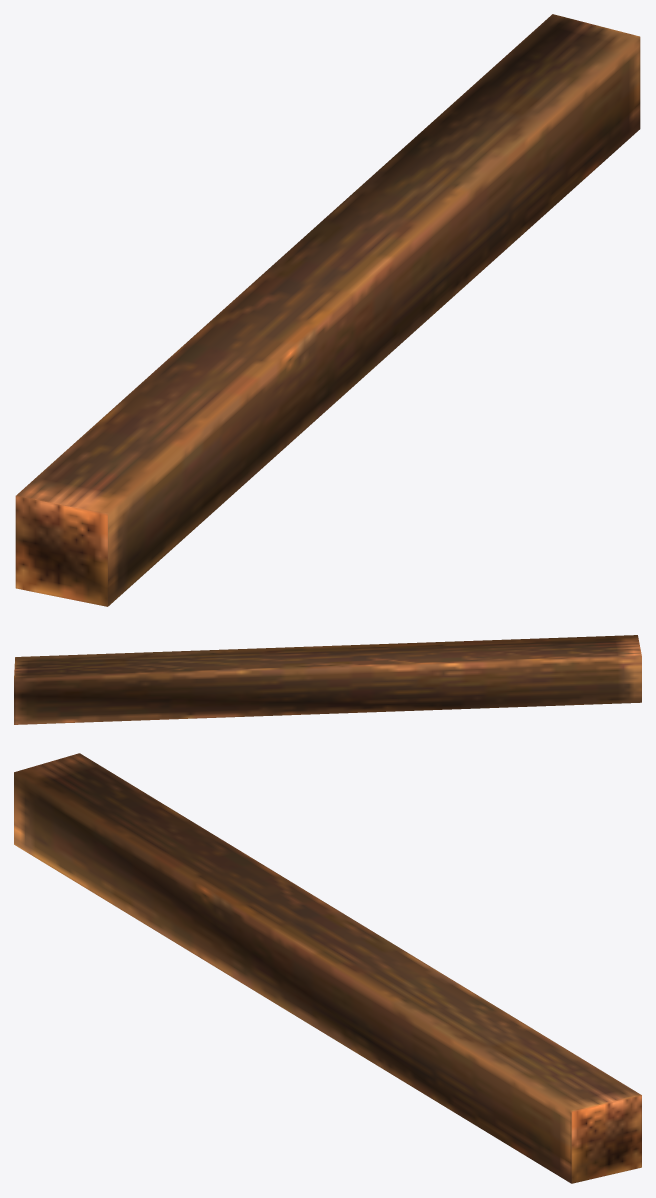
The model's file is SWORDLIGHT20_JAILBRACE15.fbx.
3 renders of one model, top to bottom at view 1: azimuth 30°, elevation 25°; view 2: azimuth 150°, elevation 25°; view 3: azimuth 270°, elevation 25°, orthographic. The views are drawn at different scales.
Visible parts, largest first — view 1: SWORDLIGHT20_JAILBRACE15; view 2: SWORDLIGHT20_JAILBRACE15; view 3: SWORDLIGHT20_JAILBRACE15.
Part boxes in pixels (box(x1,y1,x2,y2)): SWORDLIGHT20_JAILBRACE15: box(15, 14, 640, 606); SWORDLIGHT20_JAILBRACE15: box(14, 635, 641, 724); SWORDLIGHT20_JAILBRACE15: box(14, 753, 641, 1183).
Bounding box in the file's own units: 42489 × 4000 × 31465.
1 material, 1 textured.
